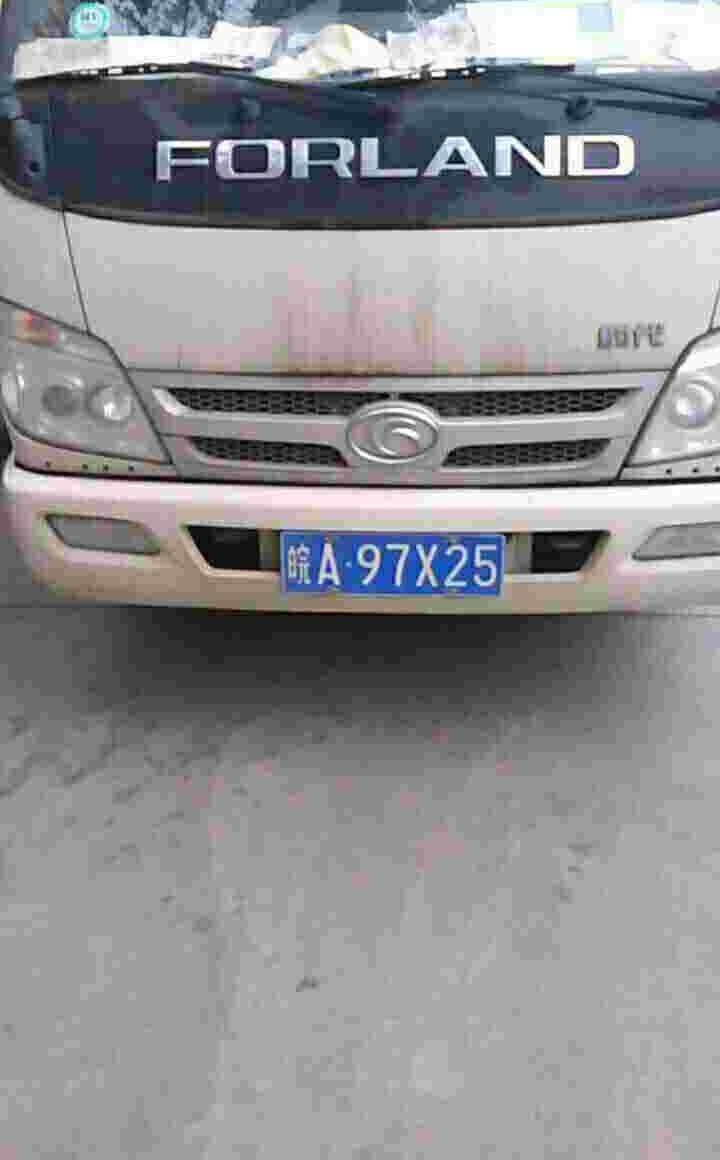license_plate: (292, 529, 507, 594)
